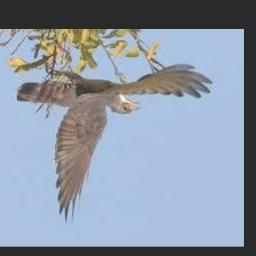Cuckoo: (16, 66, 212, 225)
